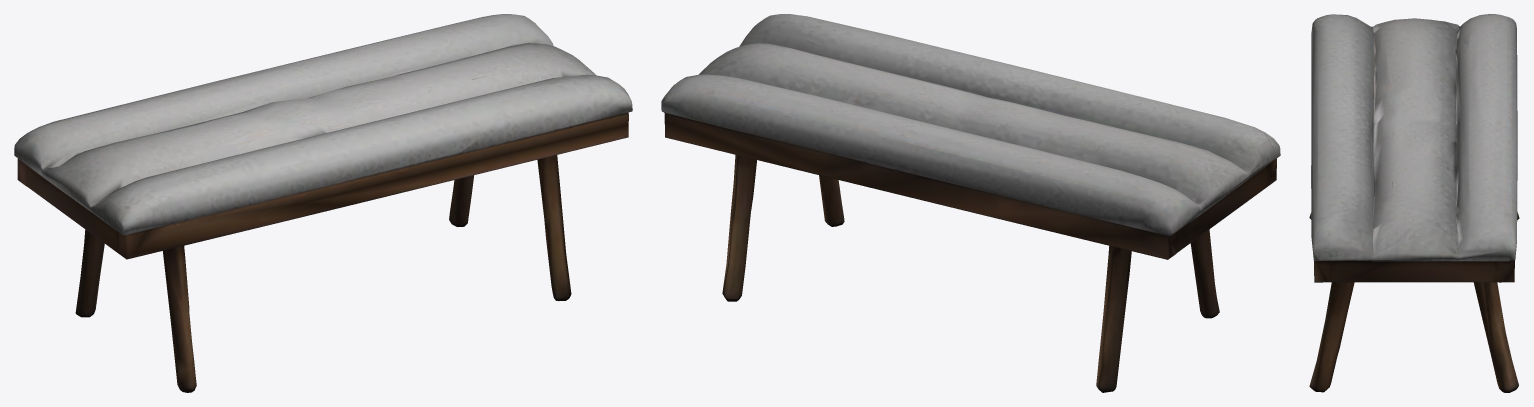
The picture shows the model from 3 angles, left to right: view 1: azimuth 30°, elevation 25°; view 2: azimuth 150°, elevation 25°; view 3: azimuth 270°, elevation 25°; orthographic projection. The views are drawn at different scales.
Parts seen in each view (by area): view 1: geometry_0; view 2: geometry_0; view 3: geometry_0.
Part boxes in pixels (<box>): geometry_0: <box>14,14,632,392</box>; geometry_0: <box>661,14,1280,392</box>; geometry_0: <box>1309,14,1519,392</box>.
Size of the model in its own units: 0.9997 by 0.3893 by 0.3866.
1 material, 1 textured.
